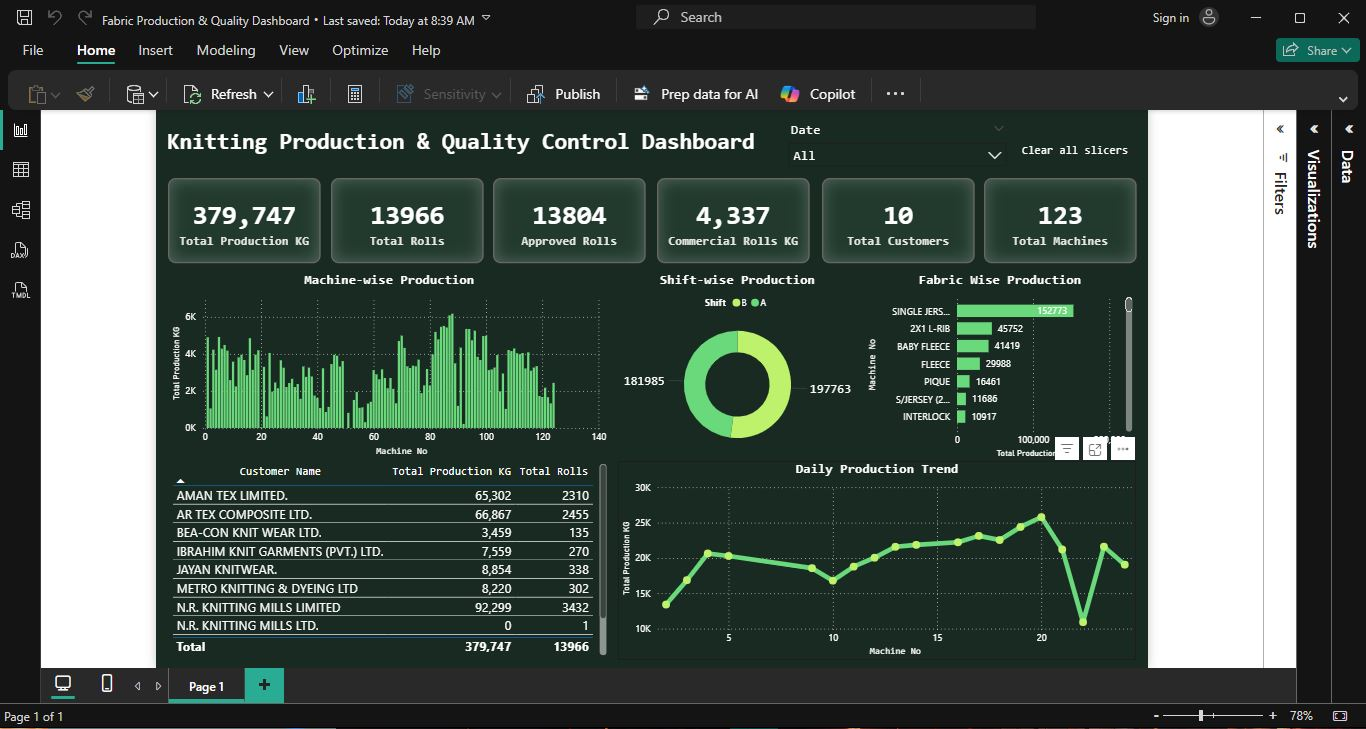

The dashboard page shown, as its layout file describes it:
{"tool":"powerbi","page":{"name":"Page 1","canvas":[1280,720],"ordinal":0},"visuals":[{"type":"card","fields":{"Values":["Sheet2.Total Production KG"]},"box":[15.1,88.1,196.8,110.1],"z":0},{"type":"card","fields":{"Values":["Sheet2.Total Rolls"]},"box":[225.7,88.1,196.8,110.1],"z":1000},{"type":"card","fields":{"Values":["Sheet2.Approved Rolls"]},"box":[435,88.1,196.8,110.1],"z":2000},{"type":"card","fields":{"Values":["Sheet2.Commercial Rolls KG"]},"box":[647,88.1,196.8,110.1],"z":3000},{"type":"card","fields":{"Values":["Sheet2.Total Customers"]},"box":[858.8,88.1,196.8,110.1],"z":4000},{"type":"card","fields":{"Values":["Sheet2.Total Machines"]},"box":[1068,88.1,196.8,110.1],"z":5000},{"type":"clusteredColumnChart","title":"Machine-wise Production","fields":{"Category":["Sheet2.Machine No"],"Y":["Sheet2.Total Production KG"]},"box":[15.1,209.2,571.2,242.2],"z":6000},{"type":"donutChart","title":"Shift-wise Production","fields":{"Category":["Sheet2.Shift"],"Y":["Sheet2.Total Production KG"]},"box":[596,209.2,308.3,242.2],"z":7000},{"type":"barChart","title":"Fabric Wise Production","fields":{"Category":["Sheet2.Fabric"],"Y":["Sheet2.Total Production KG"]},"box":[913.5,209,351,243.9],"z":8000},{"type":"lineChart","title":"Daily Production Trend","fields":{"Category":["Sheet2.Entry Date.Variation.Date Hierarchy.Day"],"Y":["Sheet2.Total Production KG"]},"box":[596,452.8,668.9,257.4],"z":9000},{"type":"shape","title":"Knitting  Production & Quality Control Dashboard","box":[14.5,23.1,782.2,65.1],"z":10000},{"type":"slicer","fields":{"Values":["Sheet2.Entry Date"]},"box":[806.7,10.1,300.7,68],"z":11000},{"type":"actionButton","box":[1107.5,27.5,157.6,50.6],"z":12000},{"type":"tableEx","title":"Buyer Wise Production","fields":{"Values":["Sheet2.Customer Name","Sheet2.Total Production KG","Sheet2.Total Rolls"]},"box":[15.1,451.4,571.2,257.4],"z":13000}]}

Visuals, with their boxes on the page's 1280x720 design canvas (x1, y1, x2, y2). These are canvas units, not pixel positions in the 1366x729 screenshot, which may show the page scaled, cropped or inside an application window:
card - Sheet2.Total Production KG: <bbox>15, 88, 212, 198</bbox>
card - Sheet2.Total Rolls: <bbox>226, 88, 422, 198</bbox>
card - Sheet2.Approved Rolls: <bbox>435, 88, 632, 198</bbox>
card - Sheet2.Commercial Rolls KG: <bbox>647, 88, 844, 198</bbox>
card - Sheet2.Total Customers: <bbox>859, 88, 1056, 198</bbox>
card - Sheet2.Total Machines: <bbox>1068, 88, 1265, 198</bbox>
"Machine-wise Production" clusteredColumnChart: <bbox>15, 209, 586, 451</bbox>
"Shift-wise Production" donutChart: <bbox>596, 209, 904, 451</bbox>
"Fabric Wise Production" barChart: <bbox>914, 209, 1264, 453</bbox>
"Daily Production Trend" lineChart: <bbox>596, 453, 1265, 710</bbox>
"Knitting  Production & Quality Control Dashboard" shape: <bbox>14, 23, 797, 88</bbox>
slicer - Sheet2.Entry Date: <bbox>807, 10, 1107, 78</bbox>
actionButton: <bbox>1108, 28, 1265, 78</bbox>
"Buyer Wise Production" tableEx: <bbox>15, 451, 586, 709</bbox>
